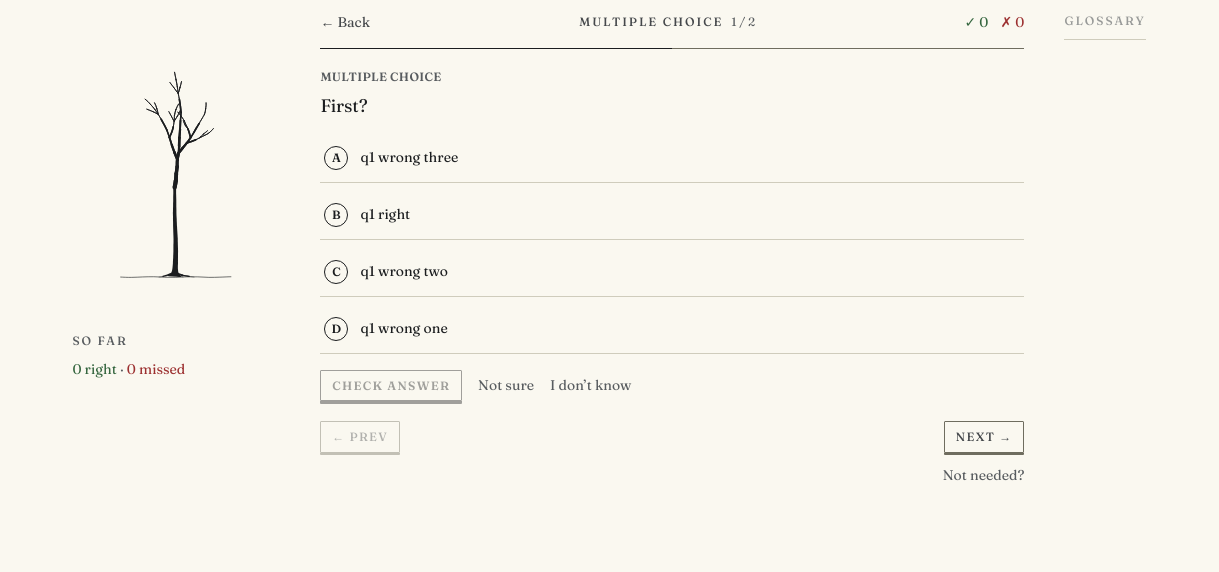
the glossary margin at 1280px and up › is always there, and shuts while a question is asked (the owner, 2026-11-17)
The width and height of the screenshot is (1219, 572).
expect the text "Fatty sheath around an axon." is not shown: met
Click the radio button labelled "B q1 right" at (385, 214), box [320,191,1024,240]
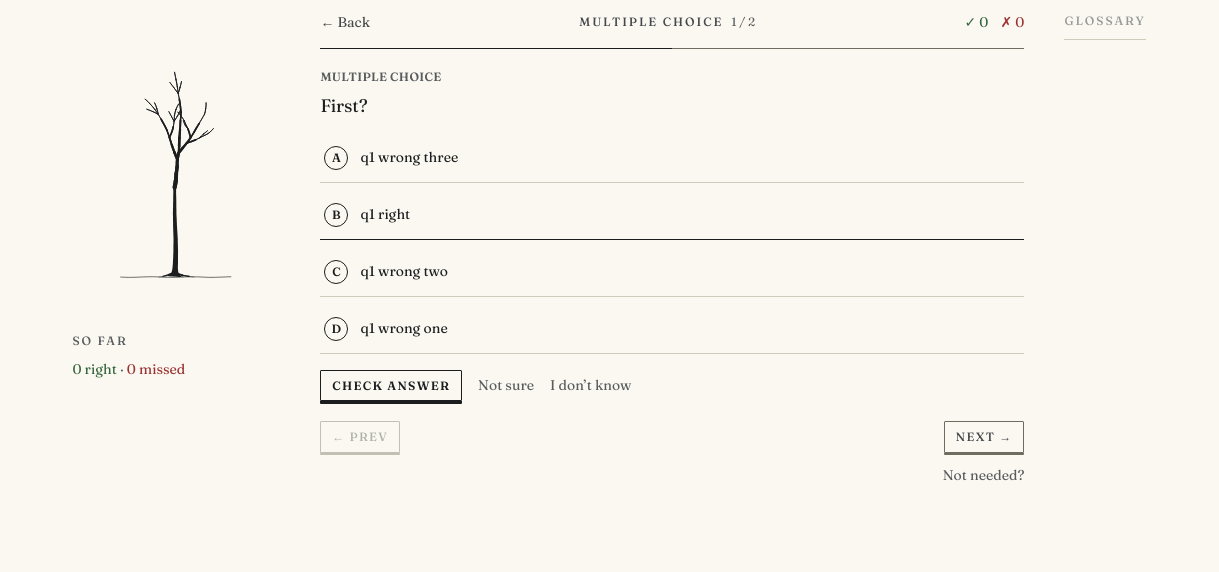
Click the button "Check answer" at (391, 386), box [320,370,462,402]
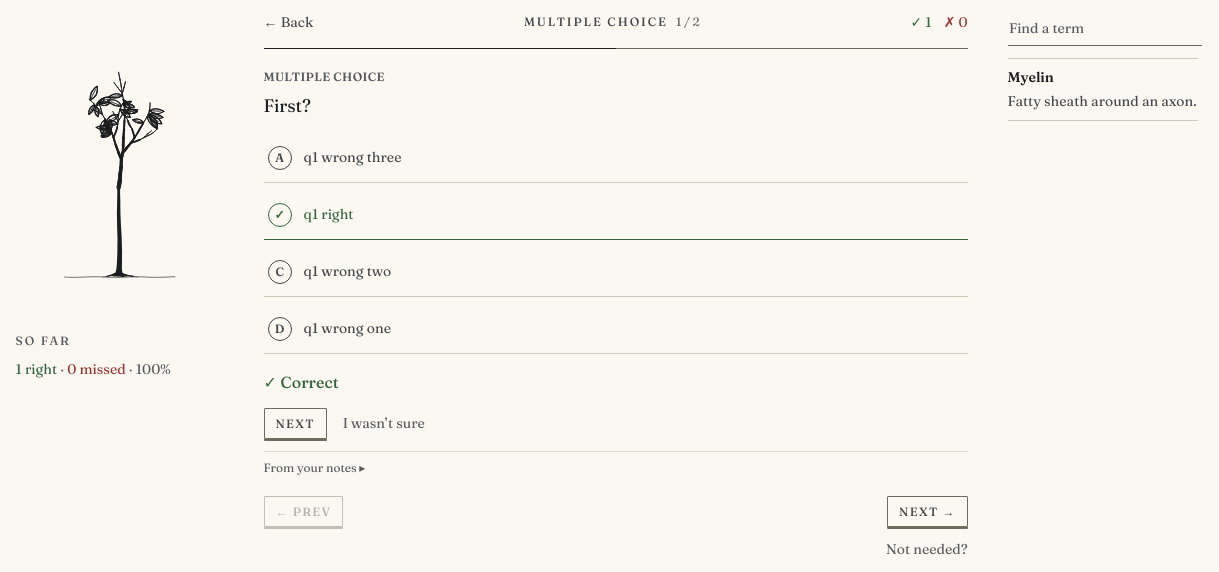
expect the text "Fatty sheath around an axon." is shown: met, box [1008,91,1198,112]
Click the button "Next →" at (927, 512), box [887,496,968,527]
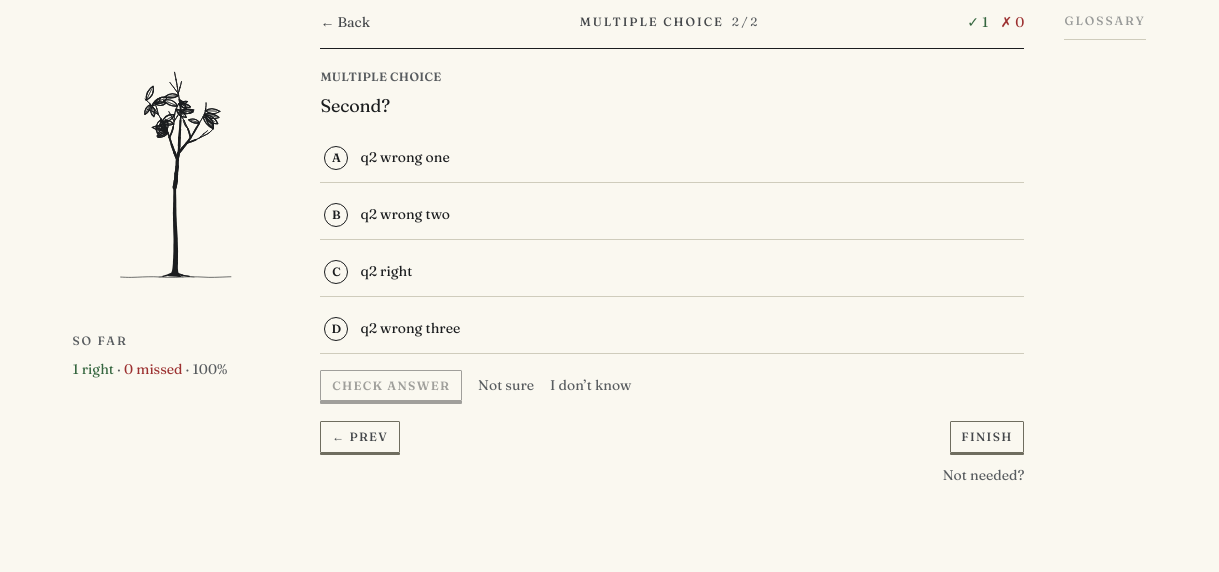
expect the text "Fatty sheath around an axon." is gone: met
